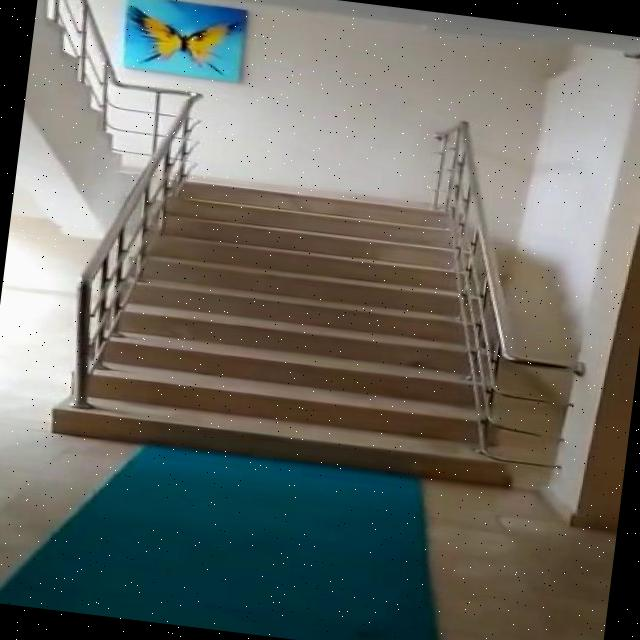stairs: (50, 163, 552, 490)
